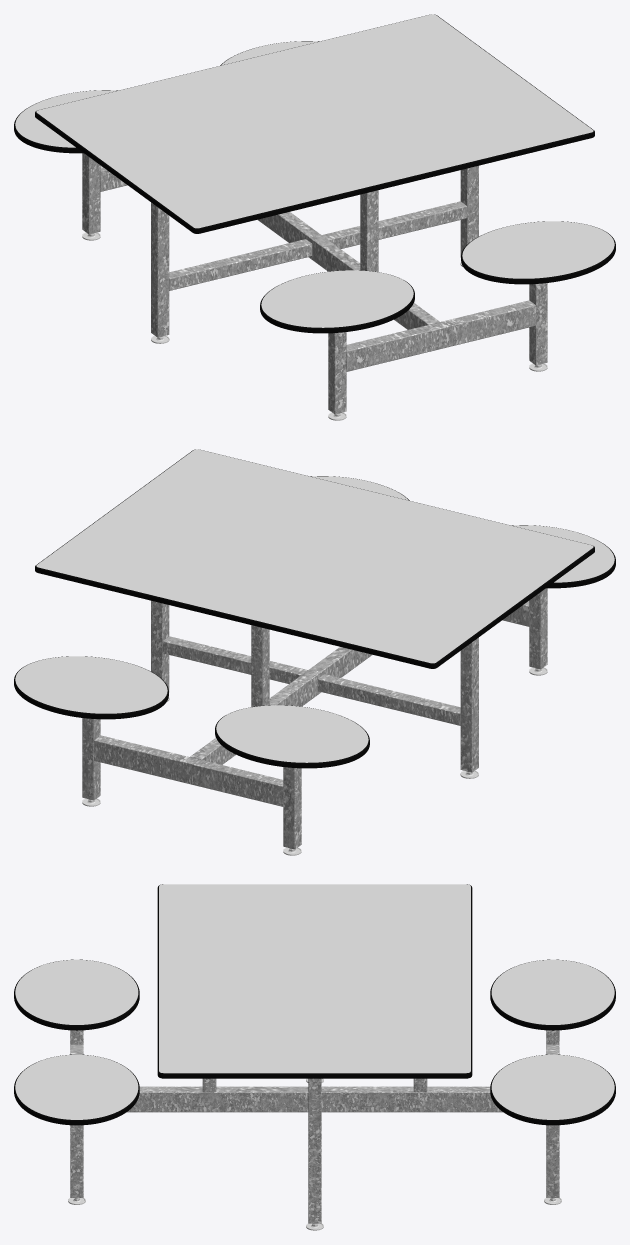
File: fantas-tisch-bambini-gerade.glb
3 views of the same model, one above another, from view 1: azimuth 30°, elevation 25°; view 2: azimuth 150°, elevation 25°; view 3: azimuth 270°, elevation 25° (orthographic). The views are drawn at different scales.
Parts seen in each view (by area): view 1: Tischplatte, Gestell, Sitzplatte, HPL-Kante; view 2: Tischplatte, Gestell, Sitzplatte, HPL-Kante; view 3: Tischplatte, Sitzplatte, Gestell, HPL-Kante.
Boxes of the visible parts, left/top/right/bottom form: Tischplatte: left=36, top=14, right=593, bottom=228; Gestell: left=82, top=153, right=547, bottom=414; Sitzplatte: left=15, top=41, right=614, bottom=327; HPL-Kante: left=14, top=14, right=615, bottom=333; Tischplatte: left=36, top=449, right=593, bottom=663; Gestell: left=82, top=588, right=547, bottom=849; Sitzplatte: left=15, top=476, right=614, bottom=762; HPL-Kante: left=14, top=449, right=615, bottom=768; Tischplatte: left=159, top=884, right=470, bottom=1073; Sitzplatte: left=15, top=959, right=614, bottom=1119; Gestell: left=70, top=1030, right=559, bottom=1223; HPL-Kante: left=14, top=884, right=615, bottom=1125.
Bounding box in the file's own units: 1 × 0.43 × 1.34.
Materials: 3 (1 with a texture image).
